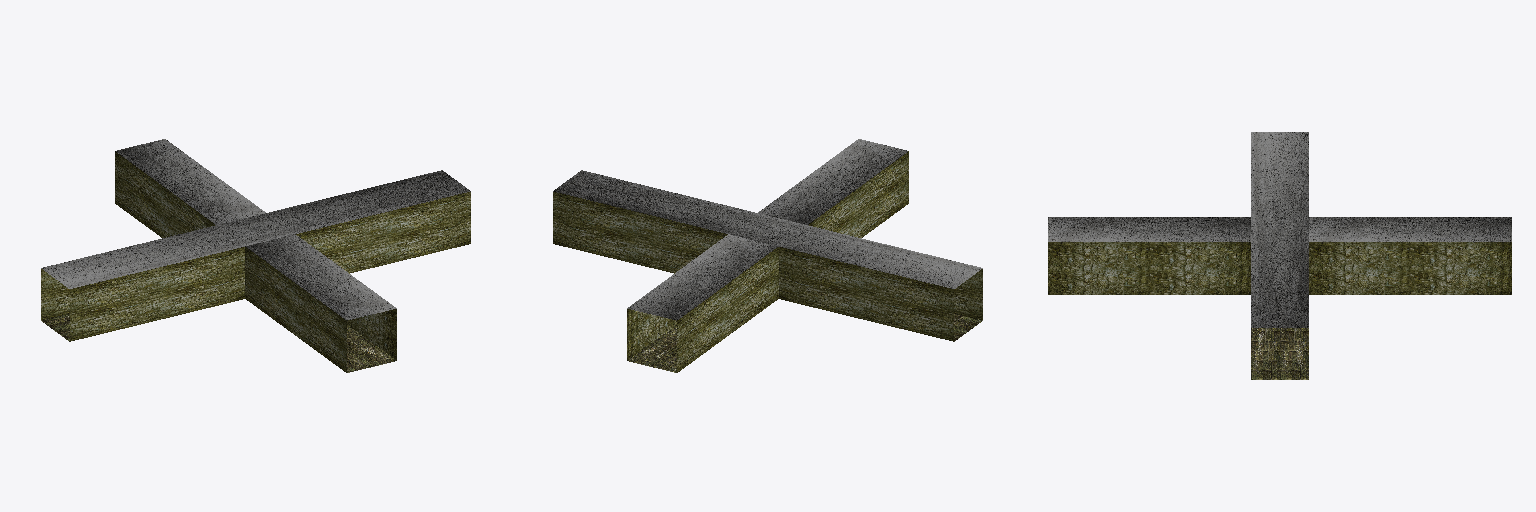
3 renders of one model, left to right at view 1: azimuth 30°, elevation 25°; view 2: azimuth 150°, elevation 25°; view 3: azimuth 270°, elevation 25°, orthographic.
Visible parts, largest first — view 1: Toiture_1, Mur_2, Mur_2.001, Mur_3, Toiture_2, Toiture_2.001, Mur_3.001, Mur_4, Sol_2, Mur_1; view 2: Toiture_1, Mur_1, Mur_1.001, Mur_3.001, Toiture_2.001, Toiture_2, Mur_3, Mur_4.001, Sol_2.001, Mur_2; view 3: Toiture_1, Mur_4.001, Mur_4, Toiture_2.001, Toiture_2, Sol_1.
Part boxes in pixels (x1,y1,x2,y2): Toiture_1: (41, 170, 470, 288); Mur_2: (70, 247, 244, 341); Mur_2.001: (296, 192, 470, 273); Mur_3: (245, 247, 346, 372); Toiture_2: (245, 234, 396, 320); Toiture_2.001: (116, 139, 265, 224); Mur_3.001: (115, 151, 214, 237); Mur_4: (347, 309, 396, 360); Sol_2: (347, 325, 395, 372); Mur_1: (41, 269, 69, 319); Toiture_1: (553, 170, 982, 288); Mur_1: (779, 247, 953, 341); Mur_1.001: (553, 192, 727, 273); Mur_3.001: (677, 247, 778, 372); Toiture_2.001: (627, 234, 778, 320); Toiture_2: (758, 139, 907, 224); Mur_3: (809, 151, 908, 237); Mur_4.001: (627, 309, 676, 360); Sol_2.001: (628, 325, 676, 372); Mur_2: (954, 269, 982, 319); Toiture_1: (1251, 132, 1308, 327); Mur_4.001: (1309, 242, 1511, 294); Mur_4: (1048, 242, 1250, 294); Toiture_2.001: (1309, 217, 1511, 241); Toiture_2: (1048, 217, 1250, 241); Sol_1: (1251, 328, 1308, 379).
Bounding box in the file's own units: 32 × 4 × 32.
3 materials, 3 textured.